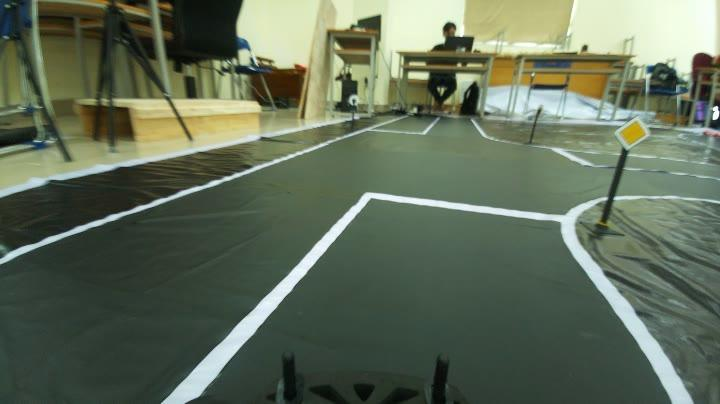priority: (610, 108, 652, 153)
